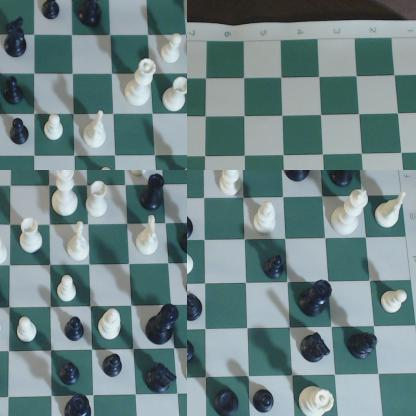black-bishop: (352, 326, 378, 362), (188, 291, 206, 324), (181, 219, 187, 258)
black-king: (151, 304, 178, 348), (285, 171, 315, 183)
black-knight: (144, 360, 180, 396), (300, 332, 331, 366), (42, 1, 62, 21), (188, 204, 198, 244)
black-pawn: (4, 73, 27, 109), (252, 387, 277, 416), (102, 354, 125, 382), (64, 317, 87, 344), (10, 118, 31, 146), (62, 357, 82, 386), (267, 254, 286, 282), (188, 338, 200, 365)
black-queen: (298, 280, 333, 322), (4, 18, 30, 59), (74, 1, 106, 25), (63, 394, 93, 416)
black-rook: (143, 172, 165, 217), (212, 390, 244, 416), (329, 171, 362, 189)
white-bishop: (96, 307, 125, 346), (250, 202, 277, 238), (220, 171, 245, 200), (1, 226, 10, 269)
white-king: (329, 189, 371, 237), (49, 171, 84, 220)
white-knight: (376, 192, 408, 233), (134, 215, 162, 259), (84, 110, 110, 151), (68, 222, 90, 266)
white-pawn: (19, 313, 44, 350), (55, 272, 82, 306), (383, 290, 412, 316), (162, 33, 183, 66), (46, 113, 67, 146), (120, 171, 152, 182), (188, 251, 199, 281), (1, 313, 7, 341)
white-queen: (124, 56, 158, 109), (296, 381, 339, 416)
white-rook: (17, 214, 45, 257), (85, 184, 112, 220), (163, 75, 187, 113)
